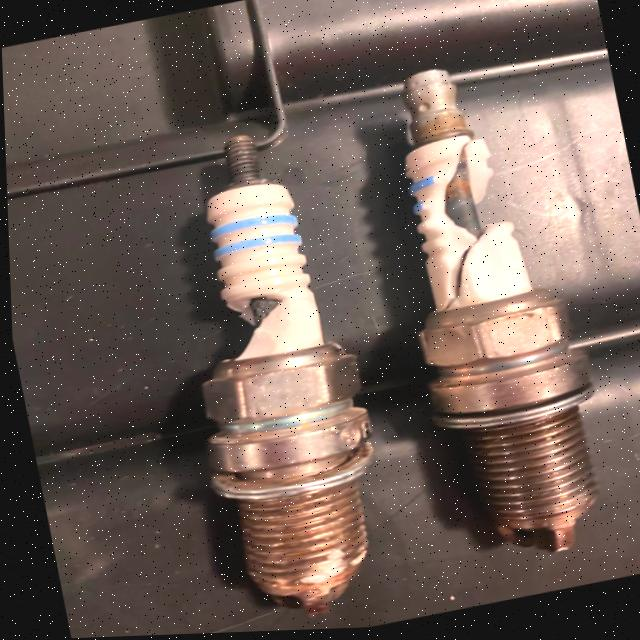damaged_spark-plug: (153, 117, 382, 623), (371, 54, 588, 549)
